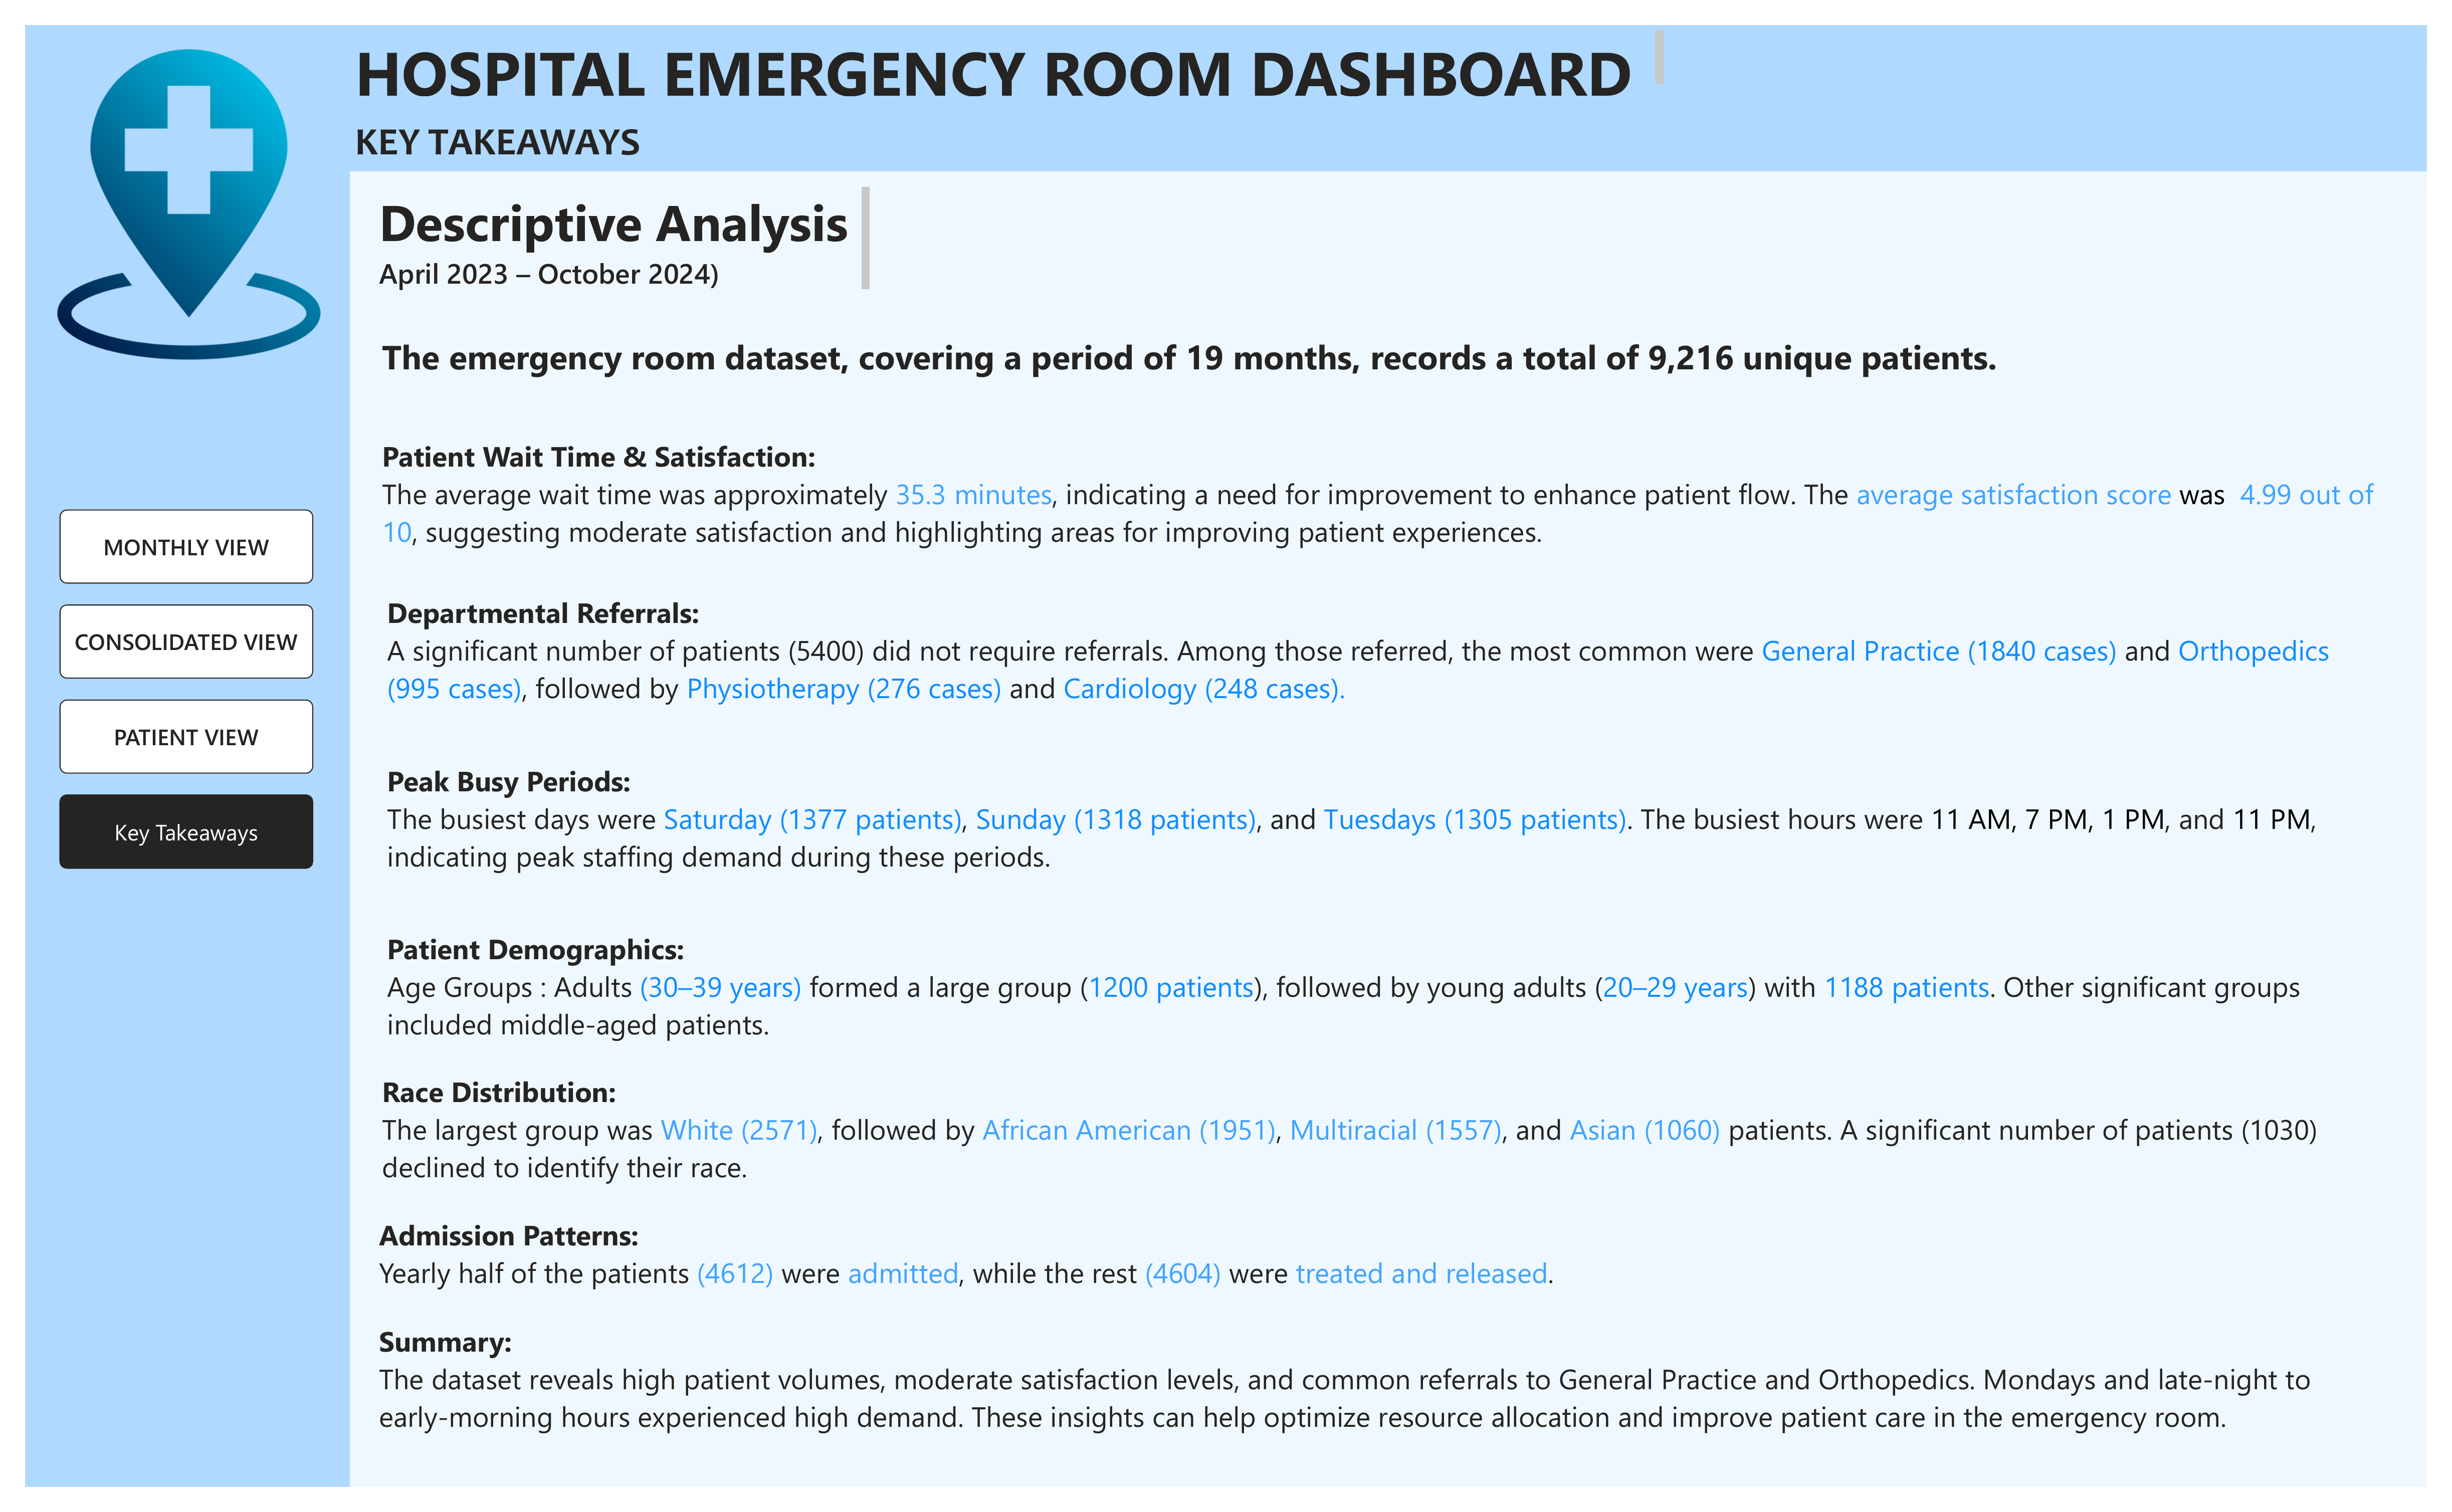

This screenshot's page, from the dashboard's own definition file:
{"tool":"powerbi","page":{"name":"Key Takeaways","canvas":[2300,1400],"ordinal":3},"visuals":[{"type":"shape","box":[311.1,0,1988.4,140],"z":0},{"type":"textbox","box":[311.1,0,1262.5,72.6],"z":1000},{"type":"shape","box":[0,0,311.1,1399.9],"z":2000},{"type":"textbox","box":[311.1,83,290.4,67.4],"z":3000},{"type":"image","box":[7.8,23.3,298.1,298.1],"z":4000},{"type":"textbox","box":[334.4,150.4,479.6,108.9],"z":5000},{"type":"textbox","box":[337,290.4,1584,62.2],"z":6000},{"type":"textbox","box":[337,388.9,1926.2,150.4],"z":7000},{"type":"textbox","box":[342.2,539.2,1871.8,142.6],"z":8000},{"type":"textbox","box":[342.2,700,1871.8,137.4],"z":9000},{"type":"textbox","box":[342.2,860.7,1926.2,137.4],"z":10000},{"type":"textbox","box":[337,998.1,1926.2,137.4],"z":11000},{"type":"textbox","box":[334.4,1135.5,1871.8,101.1],"z":12000},{"type":"textbox","box":[334.4,1236.6,1902.9,142.6],"z":13000},{"type":"pageNavigator","box":[33.3,463.7,242.5,344.8],"z":14000}]}

Visuals, with their boxes on the page's 2300x1400 design canvas (x1, y1, x2, y2). These are canvas units, not pixel positions in the 2452x1512 screenshot, which may show the page scaled, cropped or inside an application window:
shape: region(311, 0, 2300, 140)
textbox: region(311, 0, 1574, 73)
shape: region(0, 0, 311, 1400)
textbox: region(311, 83, 602, 150)
image: region(8, 23, 306, 321)
textbox: region(334, 150, 814, 259)
textbox: region(337, 290, 1921, 353)
textbox: region(337, 389, 2263, 539)
textbox: region(342, 539, 2214, 682)
textbox: region(342, 700, 2214, 837)
textbox: region(342, 861, 2268, 998)
textbox: region(337, 998, 2263, 1136)
textbox: region(334, 1136, 2206, 1237)
textbox: region(334, 1237, 2237, 1379)
pageNavigator: region(33, 464, 276, 808)
